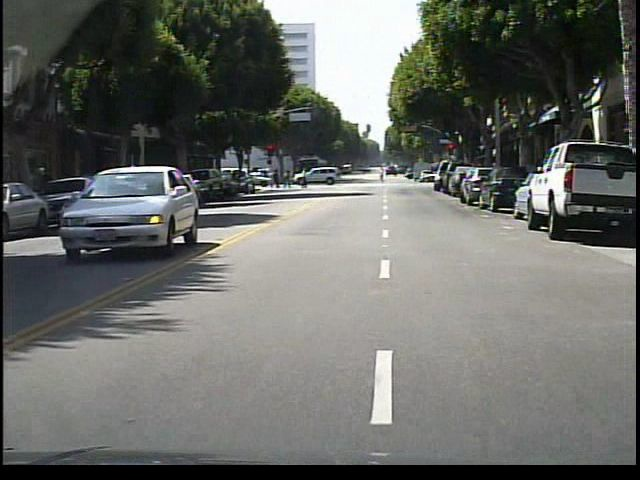person: (296, 164, 316, 194)
